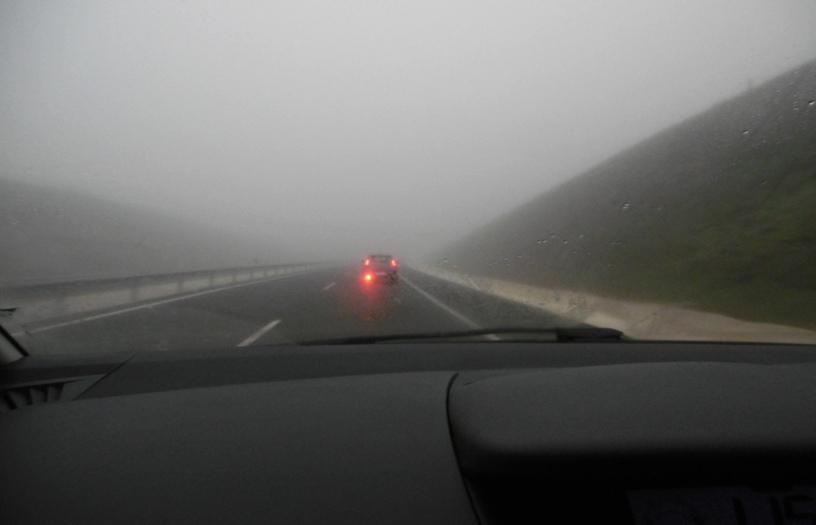car: (360, 254, 400, 287)
